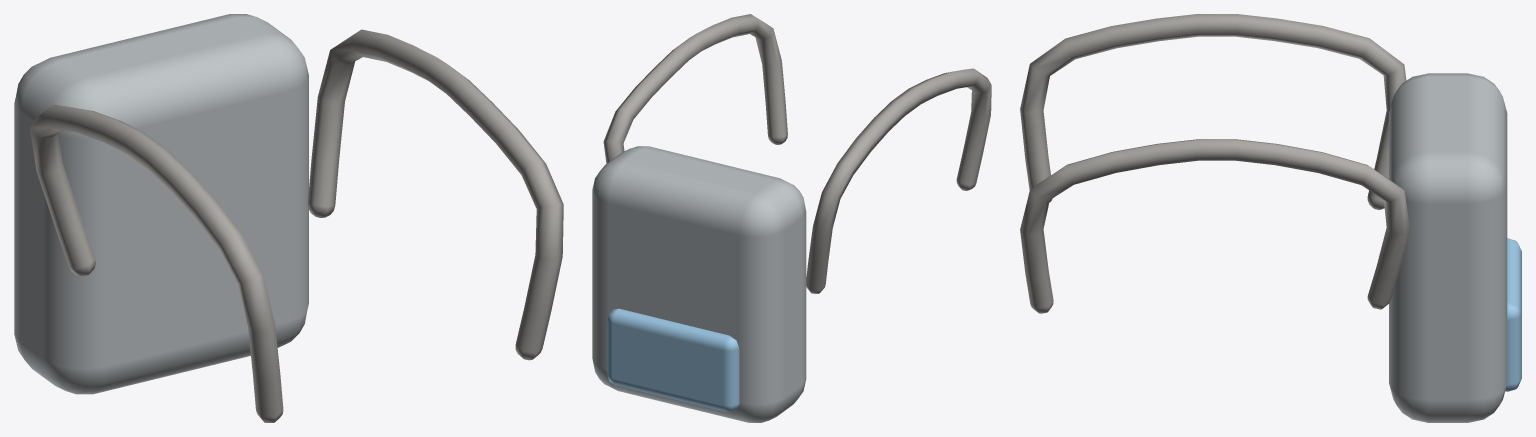
Rendered from jet_pack.glb.
3 views of the same model, side by side, from view 1: azimuth 30°, elevation 25°; view 2: azimuth 150°, elevation 25°; view 3: azimuth 270°, elevation 25° (orthographic). The views are drawn at different scales.
Visible parts, largest first — view 1: jet_pack_Body; view 2: jet_pack_Body; view 3: jet_pack_Body.
Boxes of the visible parts, x1=… form: jet_pack_Body: x1=14, y1=14, x2=563, y2=422; jet_pack_Body: x1=592, y1=14, x2=991, y2=422; jet_pack_Body: x1=1020, y1=14, x2=1521, y2=422.
Size of the model in its own units: 0.327 by 0.3418 by 0.5102.
